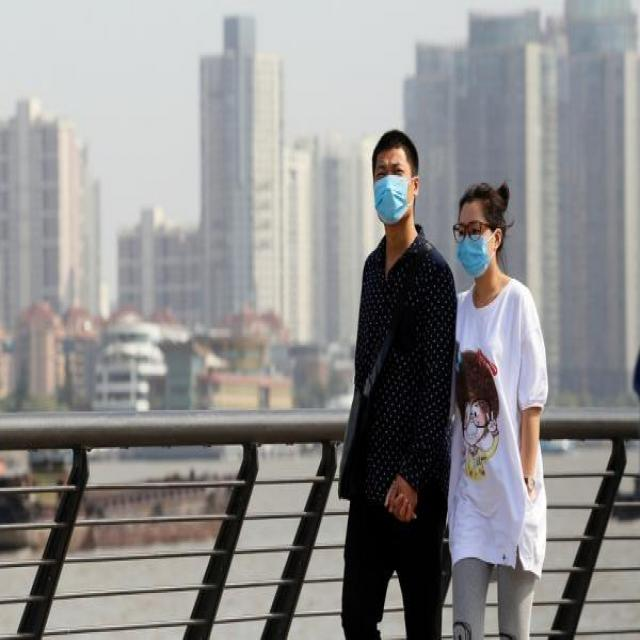mask: (373, 148, 410, 224), (456, 205, 493, 275)
